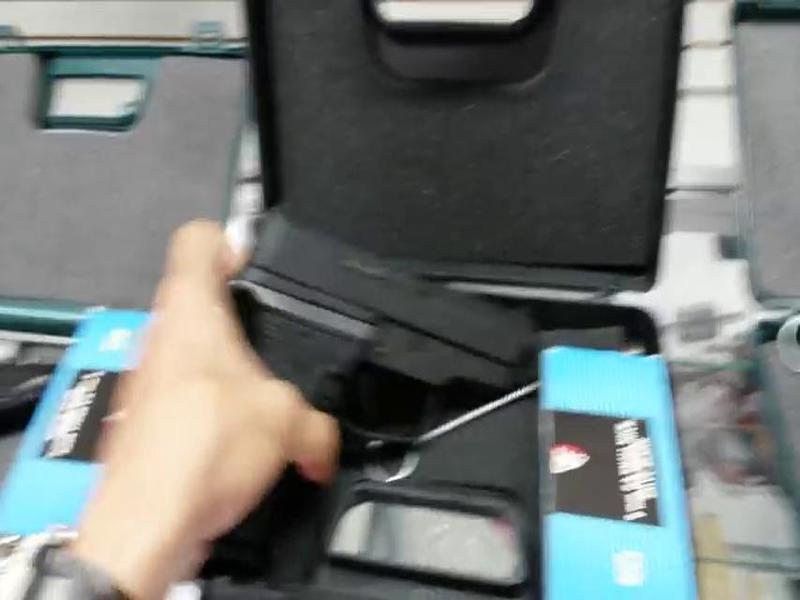Pistola: (191, 214, 561, 548)
